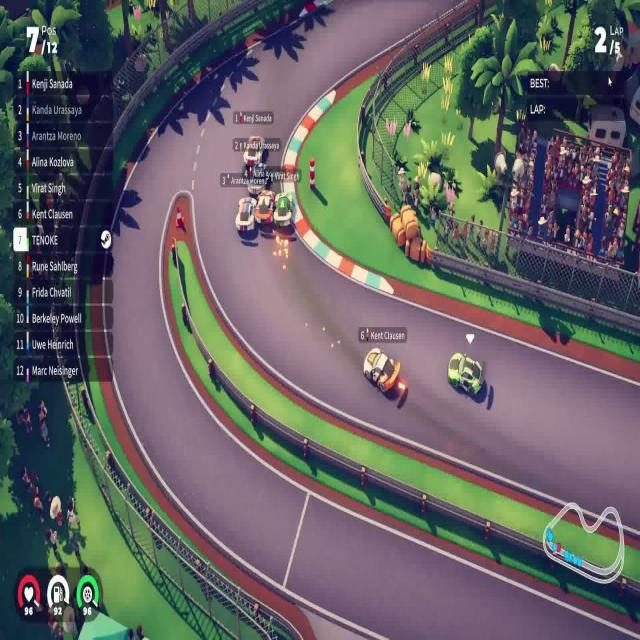car: (362, 346, 401, 395), (446, 350, 484, 397), (234, 195, 256, 235), (254, 189, 275, 228), (272, 192, 293, 228), (246, 134, 263, 166)
